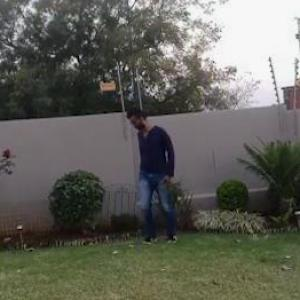follow: (134, 104, 180, 246)
